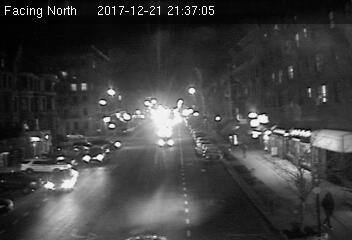car: (45, 168, 79, 191), (83, 146, 106, 164), (157, 136, 175, 148)
